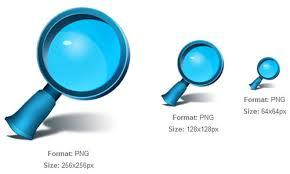searchIcon: (3, 7, 131, 140), (161, 38, 226, 106), (249, 56, 280, 90)
